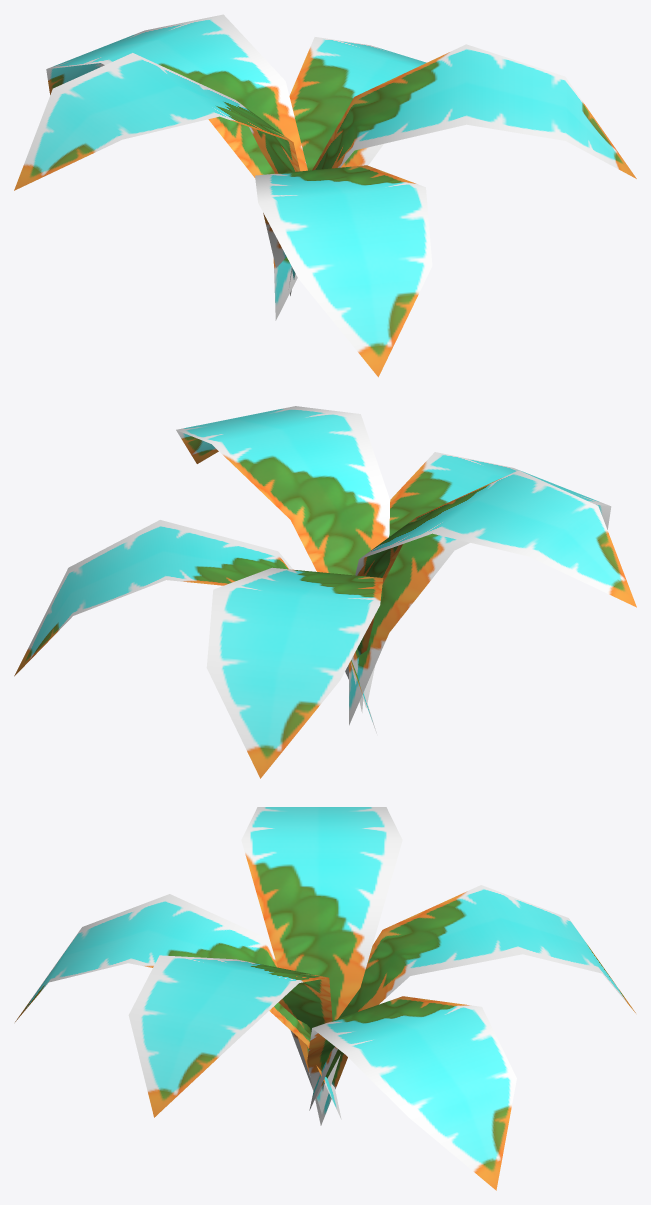
Rendered from Plant03.FBX.
The picture shows the model from 3 angles, top to bottom: view 1: azimuth 30°, elevation 25°; view 2: azimuth 150°, elevation 25°; view 3: azimuth 270°, elevation 25°; orthographic projection. The views are drawn at different scales.
Parts seen in each view (by area): view 1: Plant03; view 2: Plant03; view 3: Plant03.
Part boxes in pixels (x1,y1,x2,y2): Plant03: [14, 14, 636, 377]; Plant03: [14, 406, 636, 778]; Plant03: [15, 807, 635, 1190].
Bounding box in the file's own units: 368 × 172 × 402.
